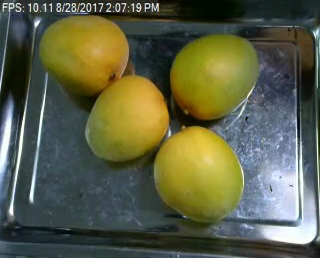Mango: (151, 124, 243, 223), (169, 29, 260, 120), (82, 73, 169, 163), (37, 12, 128, 95)
